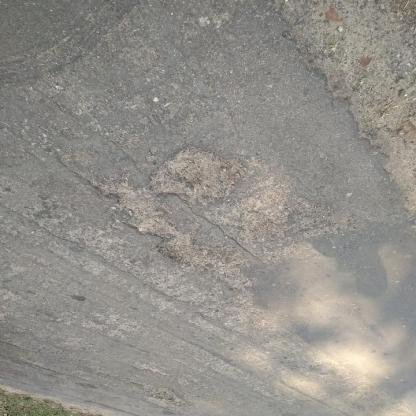pothole: (272, 2, 416, 215), (94, 179, 204, 270), (149, 146, 235, 210), (147, 389, 191, 409)
